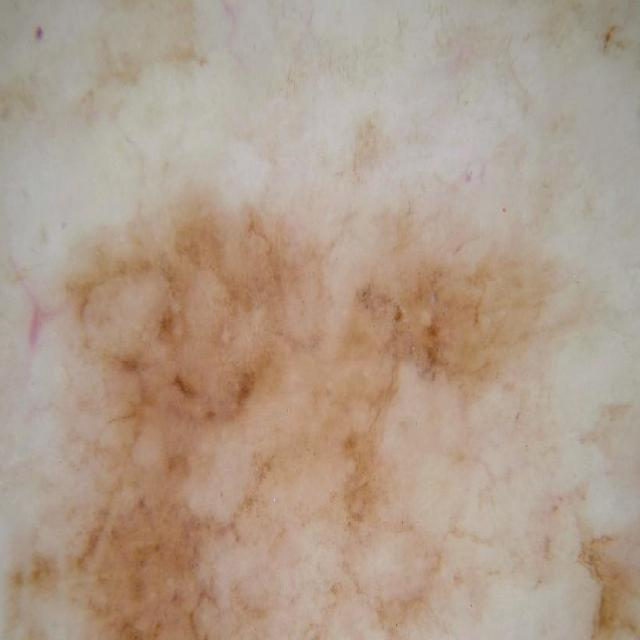Melanoma: (15, 171, 563, 640)
